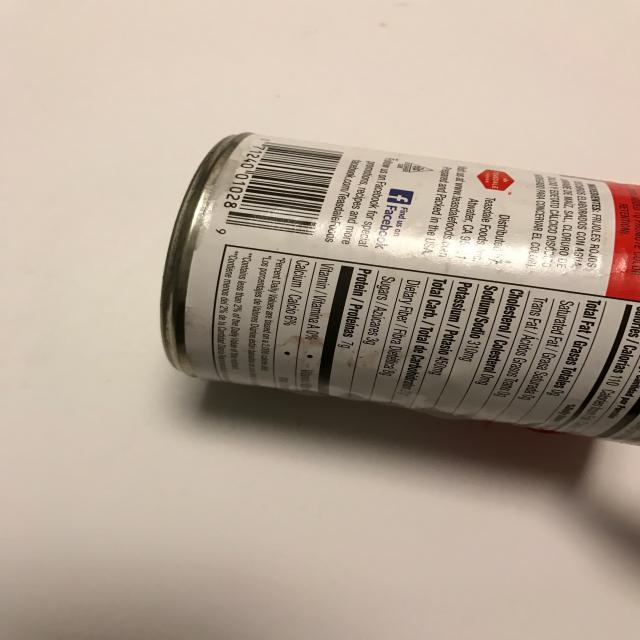metal: (163, 133, 640, 449)
